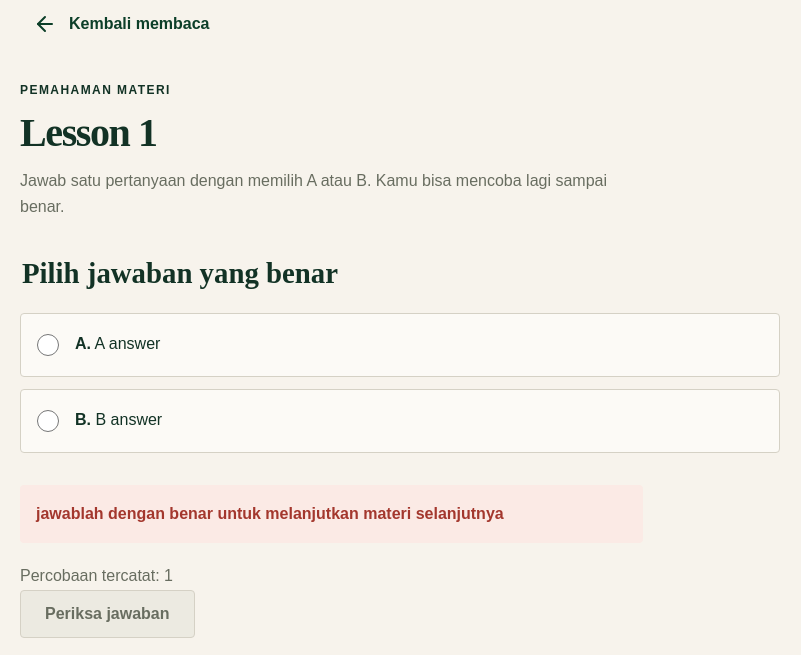
Test case: correct retry clears the old wrong choice and never highlights the immutable first answer
Expected: the text "Pilih jawaban yang benar" is shown, [20, 253, 340, 293]
Click the radio button labelled "B. B answer": (48,421) [37, 410, 59, 432]
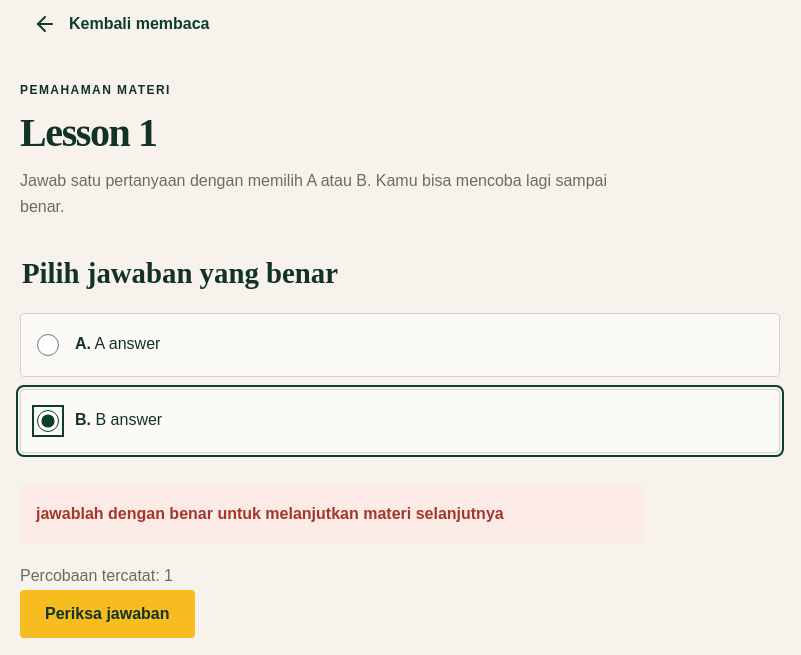
Click the button "Periksa jawaban": (107,614) [20, 590, 194, 638]
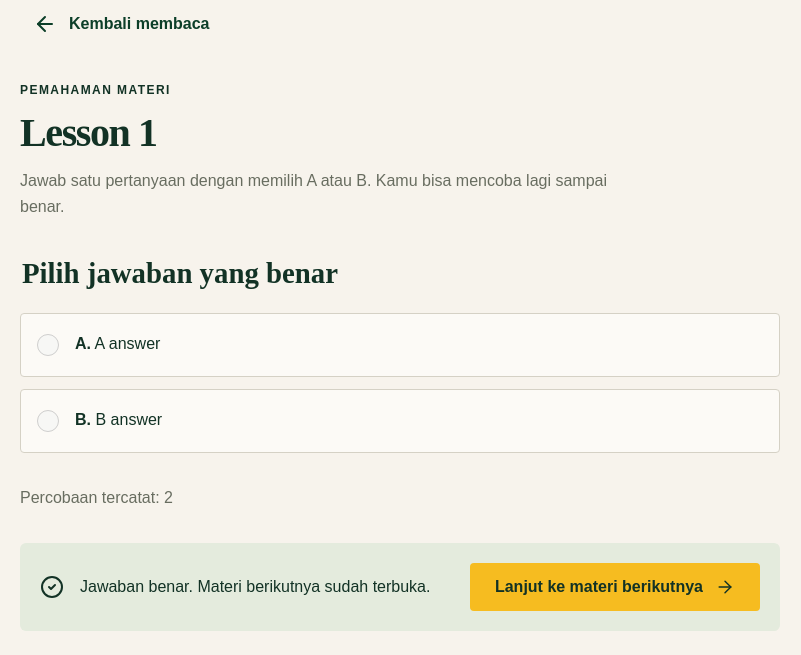
Expected: the radio button labelled "A. A answer" is not checked, [37, 334, 59, 356]
Now the text "Jawaban benar. Materi berikutnya sudah terbuka." is shown, box [80, 574, 454, 600]
